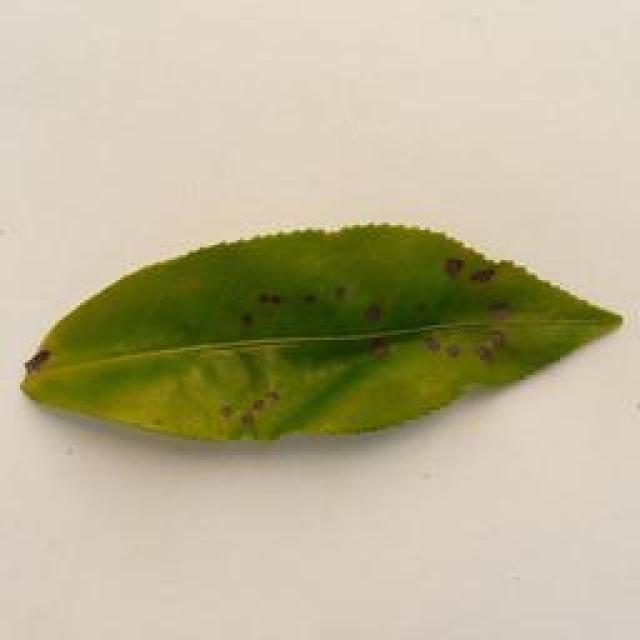Helopeltis: (16, 216, 638, 451)
